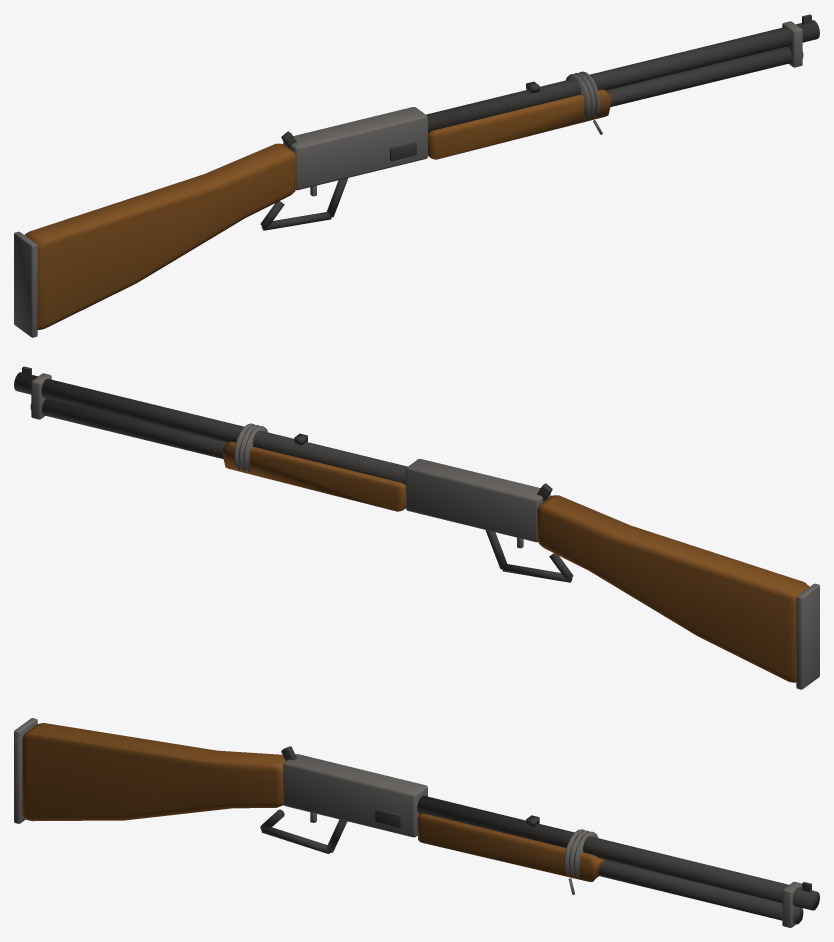
File: gun_rifle_b.glb
3 views of the same model, one above another, from view 1: azimuth 30°, elevation 25°; view 2: azimuth 150°, elevation 25°; view 3: azimuth 330°, elevation 25° (orthographic).
Parts seen in each view (by area): view 1: stock, barrel, receiver, forend, mag_tube, butt_plate; view 2: stock, receiver, barrel, forend, mag_tube, butt_plate; view 3: stock, barrel, receiver, forend, mag_tube, butt_plate, lever_bottom, front_band.
Boxes of the visible parts, x1,y1,x2,y2 form: stock: (24, 143, 296, 330); barrel: (426, 20, 819, 132); receiver: (283, 107, 427, 190); forend: (428, 89, 611, 159); mag_tube: (606, 46, 803, 106); butt_plate: (14, 231, 37, 337); stock: (537, 495, 809, 682); receiver: (406, 459, 550, 542); barrel: (14, 372, 407, 484); forend: (222, 441, 405, 511); mag_tube: (30, 398, 227, 458); butt_plate: (796, 583, 819, 689); stock: (22, 723, 285, 821); barrel: (417, 795, 819, 910); receiver: (283, 754, 427, 837); forend: (417, 813, 604, 881); mag_tube: (598, 860, 803, 924); butt_plate: (14, 718, 37, 823); lever_bottom: (261, 827, 329, 853); front_band: (782, 881, 802, 927).
Bounding box in the file's own units: 0.983 × 0.1592 × 0.0578.
